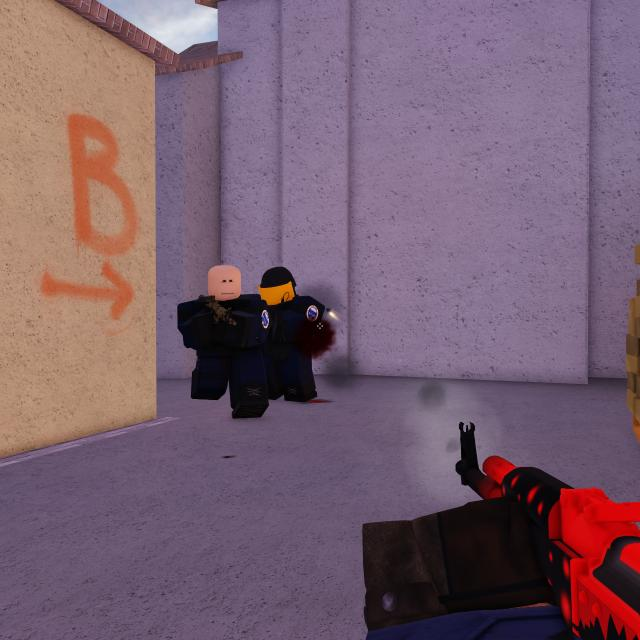Head: (260, 268, 295, 306), (208, 266, 242, 300)
Player: (176, 266, 271, 418), (238, 267, 326, 404)
